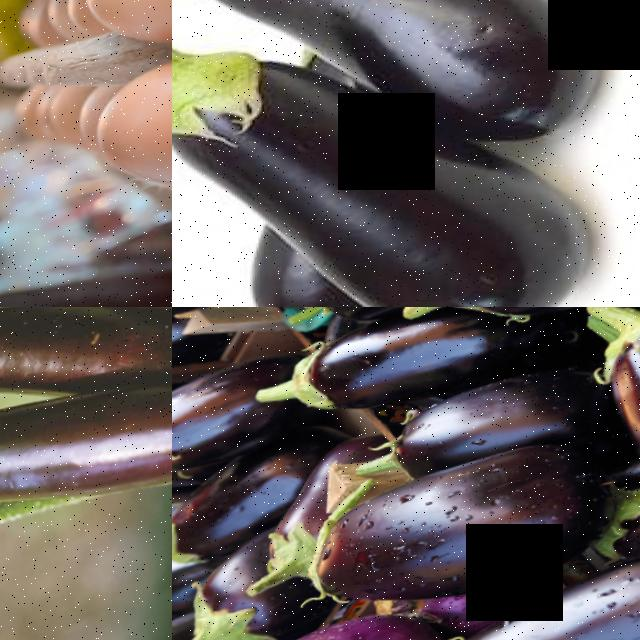egg_: (93, 55, 172, 205), (79, 0, 172, 58)
eggplant: (272, 130, 605, 307), (312, 443, 610, 622), (172, 37, 365, 285), (0, 369, 172, 541), (281, 307, 525, 417), (0, 307, 172, 439), (172, 426, 331, 567), (173, 0, 529, 53), (420, 565, 640, 640), (172, 359, 273, 480), (598, 317, 640, 544)
